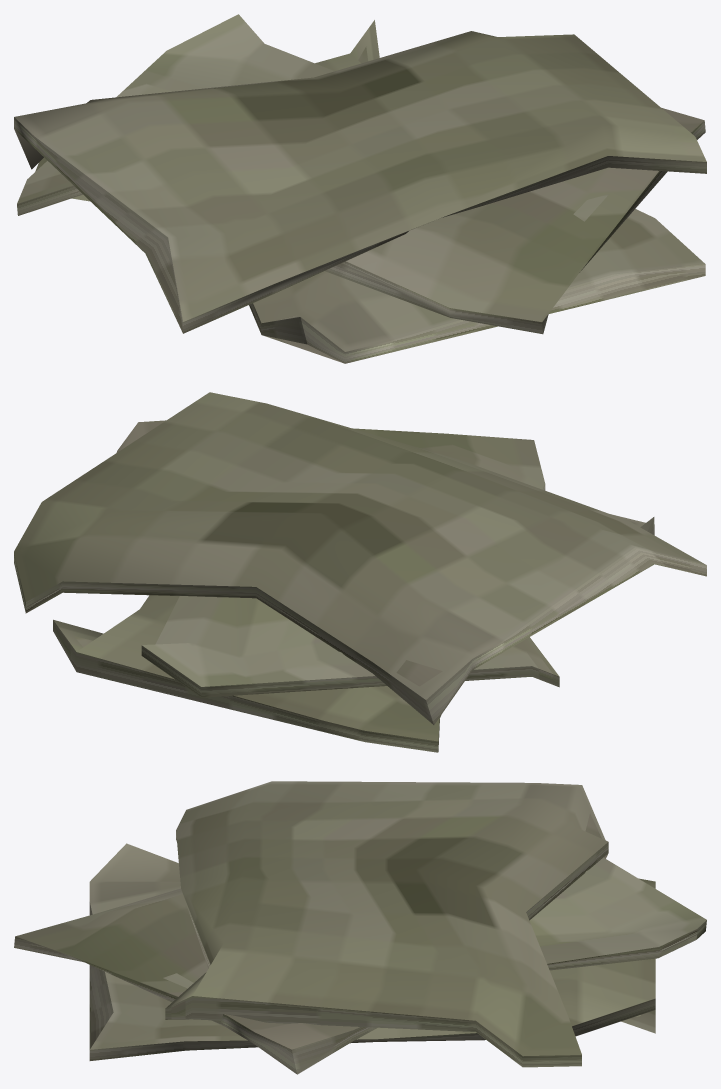
File: StacksofPaper.fbx
The picture shows the model from 3 angles, top to bottom: view 1: azimuth 30°, elevation 25°; view 2: azimuth 150°, elevation 25°; view 3: azimuth 270°, elevation 25°; orthographic projection. The views are drawn at different scales.
Visible parts, largest first — view 1: pCube3, pCube2, pCube1; view 2: pCube3, pCube2, pCube1; view 3: pCube3, pCube2, pCube1.
Part boxes in pixels (x1,y1,x2,y2): pCube3: (14, 31, 706, 333); pCube2: (17, 14, 705, 334); pCube1: (35, 20, 705, 363); pCube3: (14, 392, 706, 724); pCube2: (116, 420, 559, 697); pCube1: (53, 514, 654, 752); pCube3: (165, 781, 608, 1067); pCube2: (14, 857, 706, 1074); pCube1: (89, 843, 655, 1060).
Size of the model in its own units: 1.44 by 0.3111 by 1.59.
